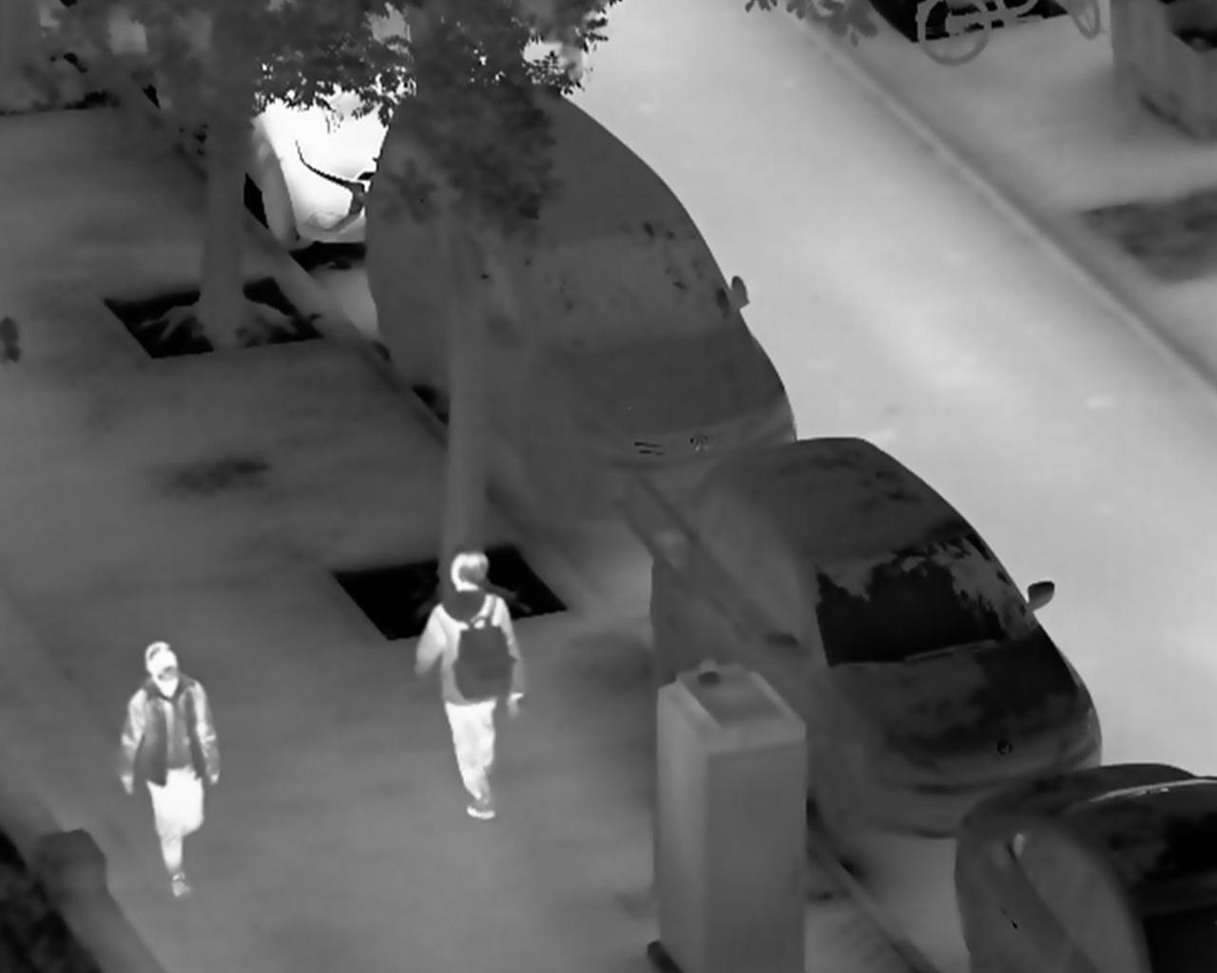person: (413, 547, 529, 823), (116, 640, 222, 903)
